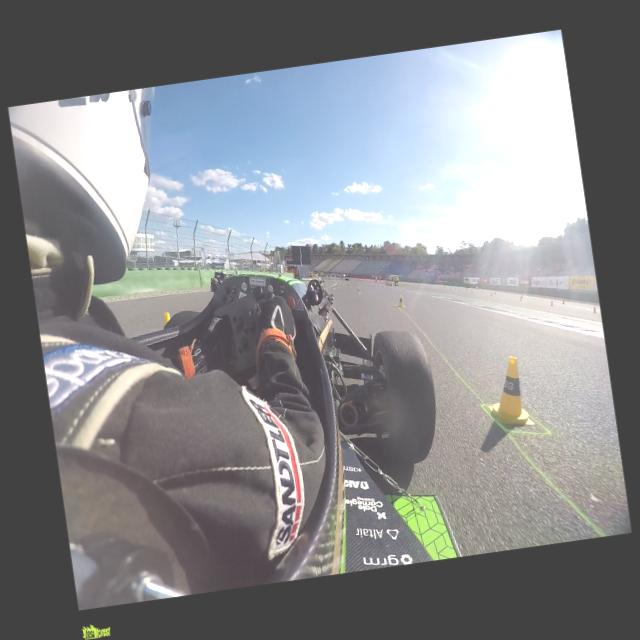yellow_cone: (487, 358, 531, 427), (395, 294, 404, 308), (164, 312, 172, 325), (357, 287, 361, 295), (550, 300, 554, 306), (592, 306, 596, 312), (561, 300, 565, 306), (332, 284, 335, 290), (348, 283, 351, 288), (337, 284, 340, 288)
